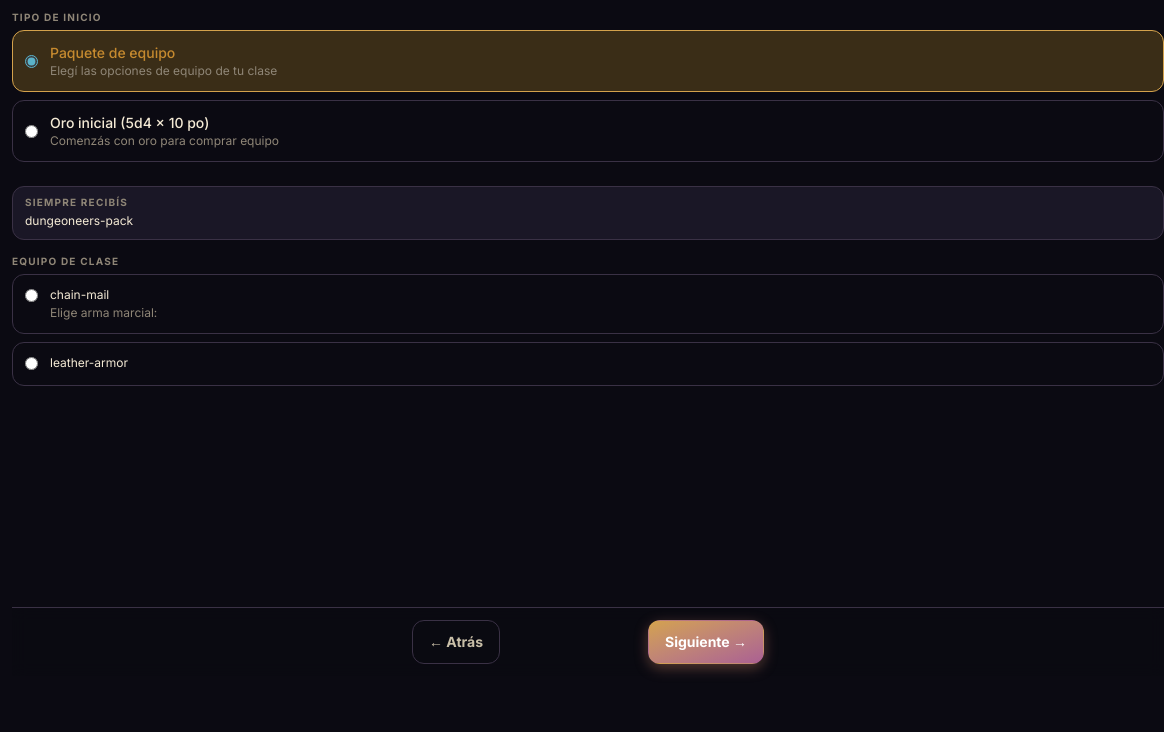
EquipmentPicker — package-vs-gold toggle (REQ-SEQUIP-09) › switching to gold path shows the gold value field and roll button
Click the radio button showing "gold" at (32, 131), box [25, 124, 38, 138]
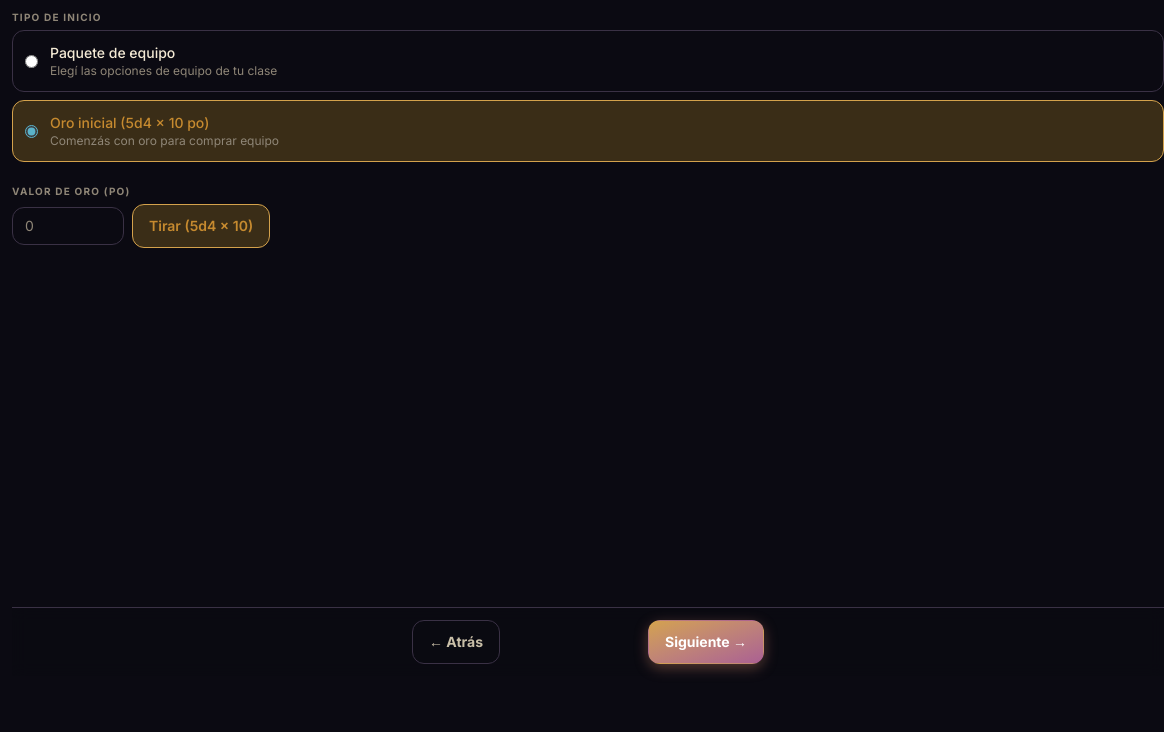
Result: the number field is shown at [12, 207, 124, 245]
Result: the button with aria-label "Tirar 5d4 × 10" is shown at [132, 204, 270, 248]
